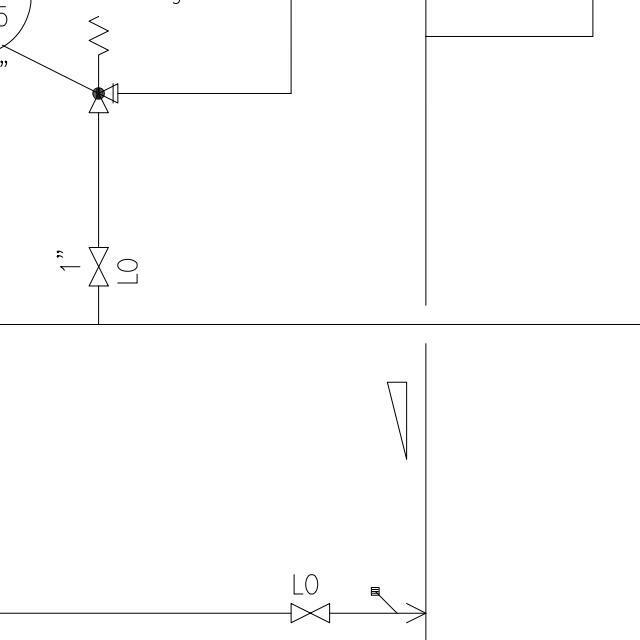GV: (83, 241, 113, 293), (287, 598, 334, 626)
RPV: (82, 9, 123, 122)
